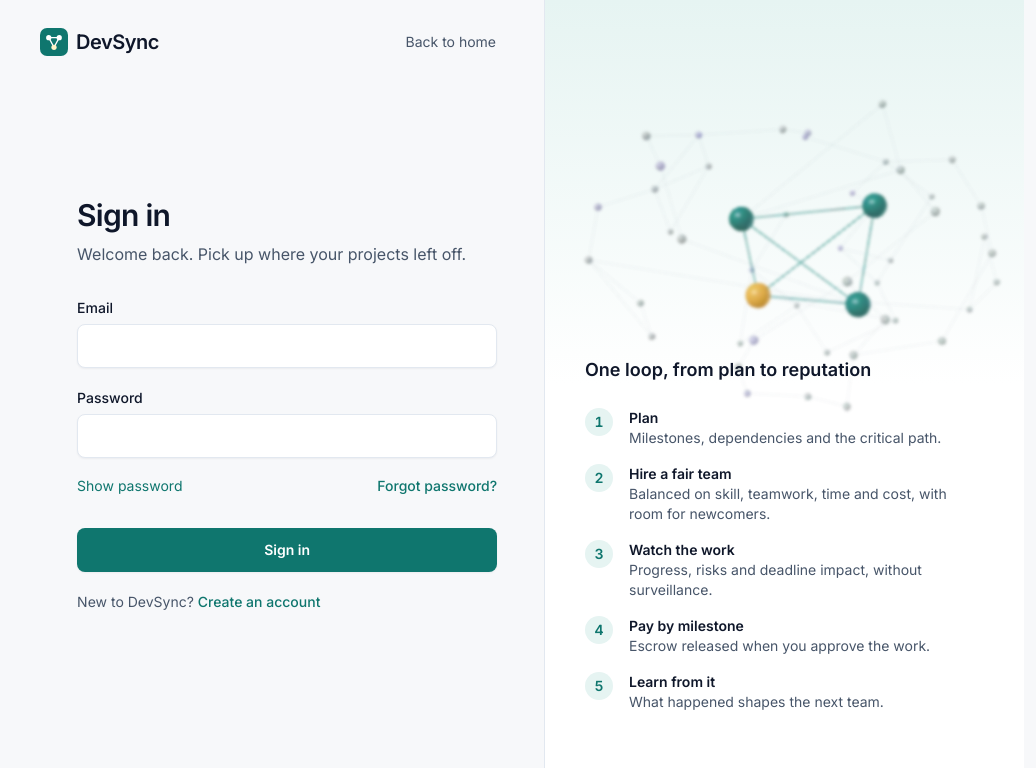
Test case: LoginPage › shows the uniform error for wrong credentials
The image size is (1036, 768).
Step 1. Type "rahim@example.com" into the field labelled "Email" → (287,346), box [77,324,497,368]
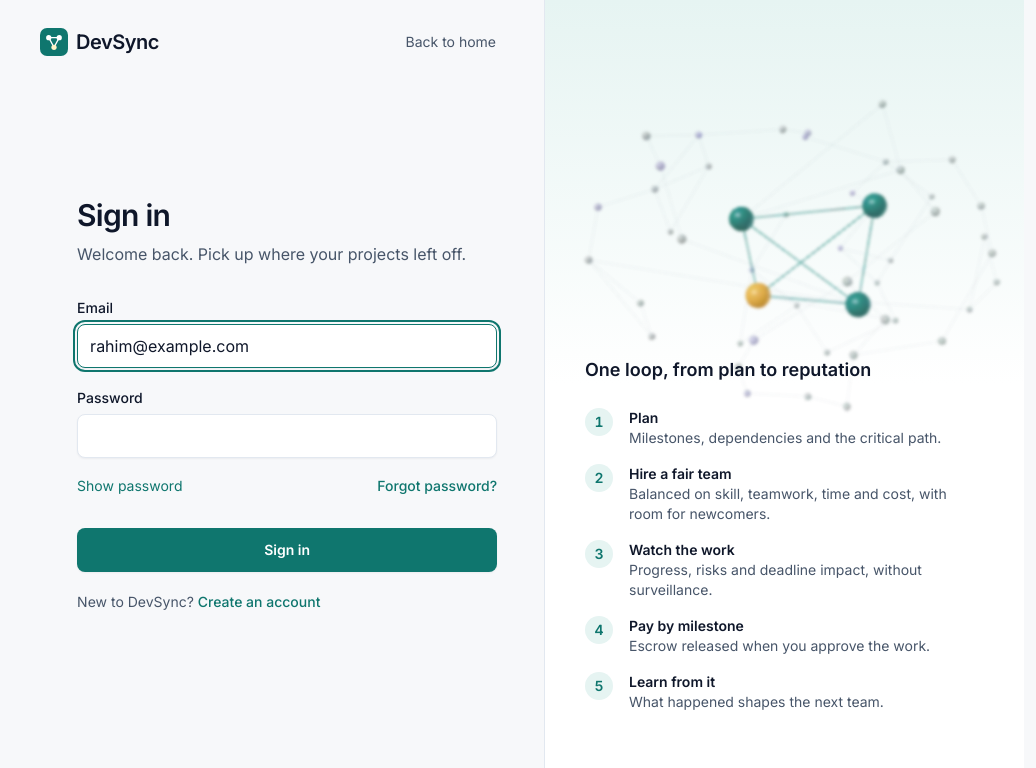
Step 2. Type "a good password 1" into the password field labelled "Password" → (287,436), box [77,414,497,458]
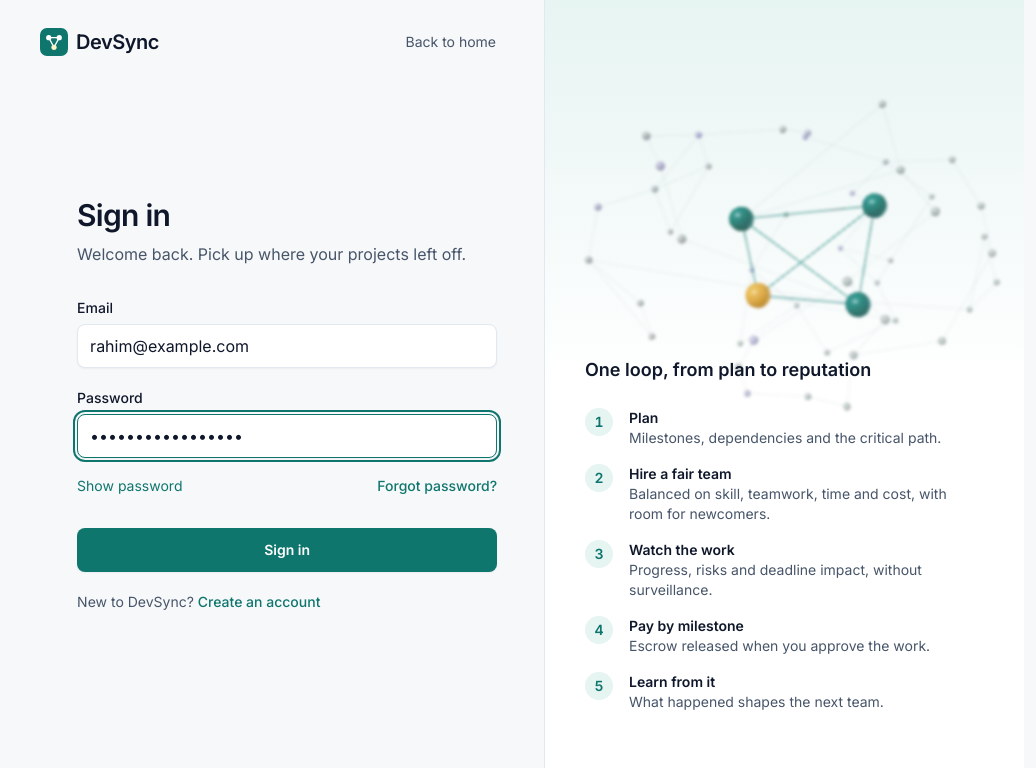
Step 3. Click the button "Sign in" → (287,550), box [77,528,497,572]
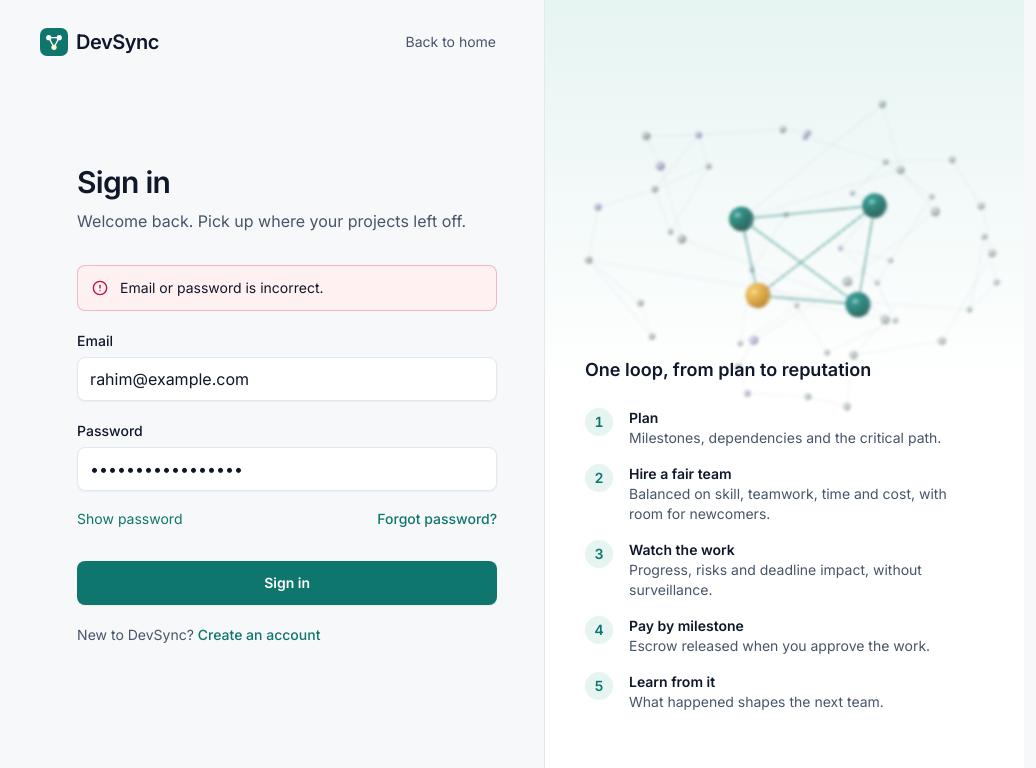
Result: the message reads "Email or password is incorrect." at [120,279,324,296]
